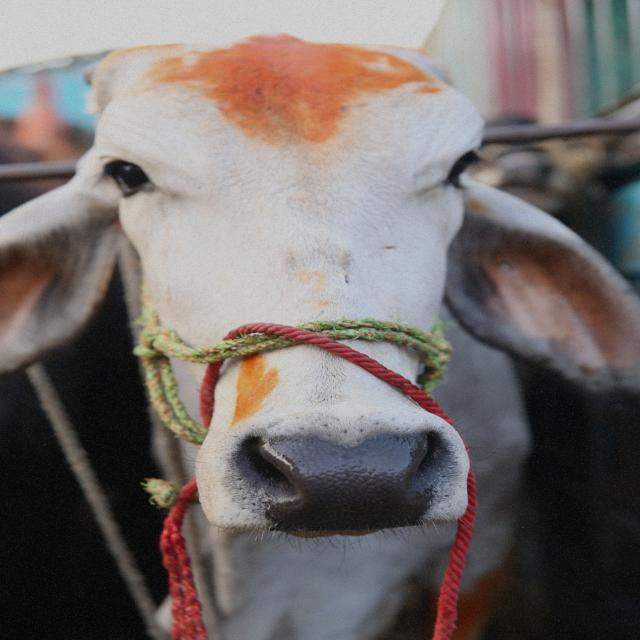muzzles: (225, 425, 458, 541)
